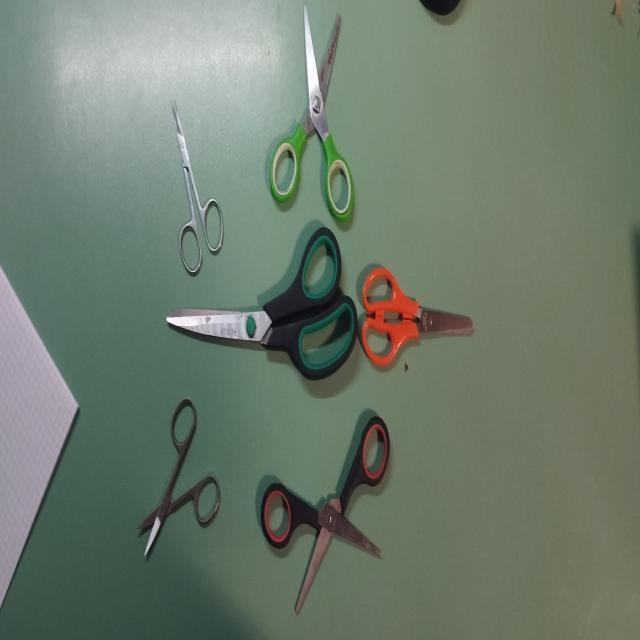tesoura: (158, 221, 361, 390), (258, 412, 394, 617), (266, 0, 356, 225), (136, 396, 222, 564), (359, 264, 476, 372), (172, 96, 226, 284)
